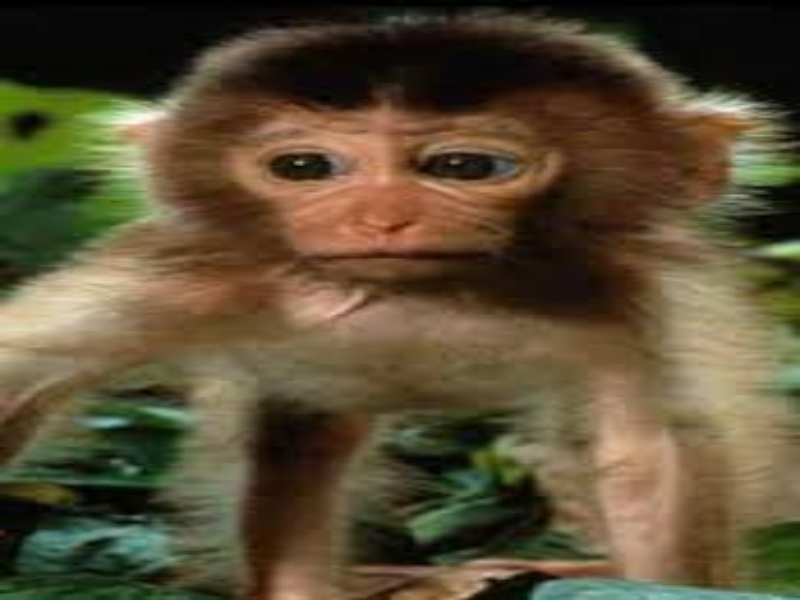monkey: (39, 8, 787, 497)
